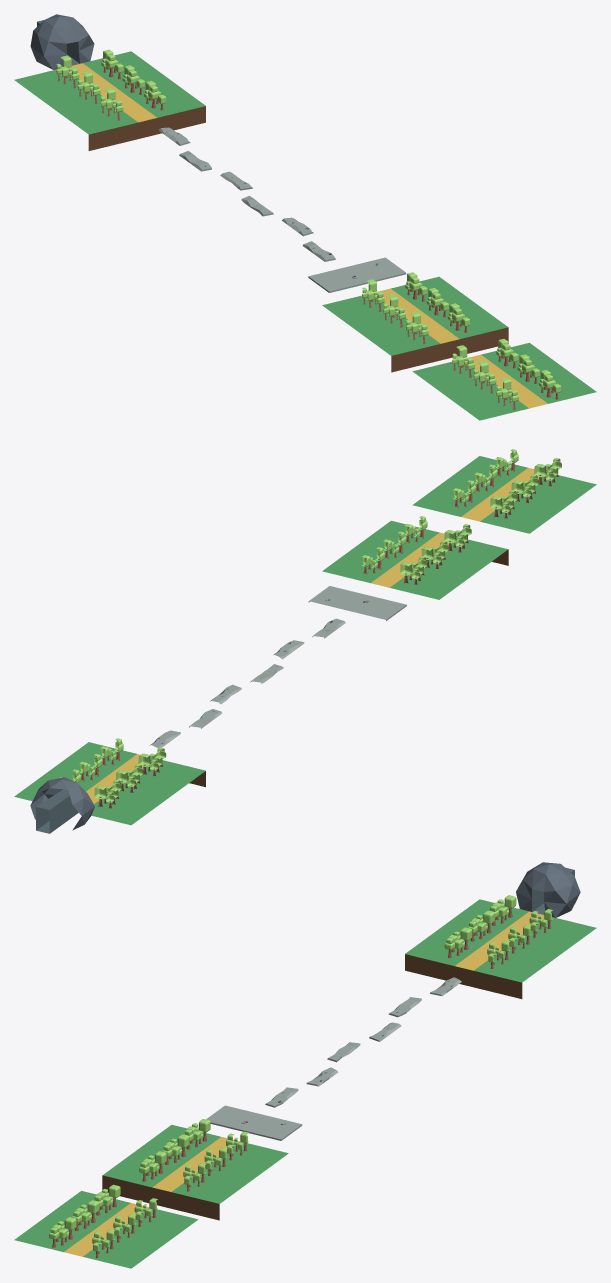
The model's file is road1.fbx.
The picture shows the model from 3 angles, top to bottom: view 1: azimuth 30°, elevation 25°; view 2: azimuth 150°, elevation 25°; view 3: azimuth 330°, elevation 25°; orthographic projection.
Parts seen in each view (by area): view 1: Plane.003, Plane.004, Plane.005, Вход в пещеру.002, Начало платформы.001, Деревья 1.001, Деревья 2.002, Деревья 2.003, Деревья3.001, Деревья2.001, Деревья1.001, Платформа 1.001 (+1 smaller); view 2: Plane.004, Plane.005, Plane.003, Вход в пещеру.002, Начало платформы.001, Деревья 2.002, Деревья 1.001, Деревья 2.003, Платформа 1.001, Деревья2.001, Деревья1.001, Деревья3.001 (+1 smaller); view 3: Plane.003, Plane.004, Plane.005, Вход в пещеру.002, Начало платформы.001, Деревья 2.002, Деревья 2.003, Деревья 1.001, Деревья3.001, Деревья2.001, Деревья1.001, Платформа 1.001 (+1 smaller).
Boxes of the visible parts, x1,y1,x2,y2 form: Plane.003: (14, 51, 205, 150); Plane.004: (322, 276, 508, 372); Plane.005: (412, 343, 596, 420); Вход в пещеру.002: (30, 14, 94, 69); Начало платформы.001: (308, 257, 406, 292); Деревья 1.001: (451, 345, 518, 410); Деревья 2.002: (55, 55, 123, 120); Деревья 2.003: (361, 279, 428, 344); Деревья3.001: (101, 49, 166, 110); Деревья2.001: (496, 339, 561, 399); Деревья1.001: (405, 272, 469, 332); Платформа 1.001: (220, 171, 335, 261); Plane.004: (322, 520, 508, 599); Plane.005: (412, 456, 596, 533); Plane.003: (14, 742, 205, 825); Вход в пещеру.002: (30, 777, 94, 833); Начало платформы.001: (308, 586, 406, 620); Деревья 2.002: (94, 747, 166, 808); Деревья 1.001: (490, 458, 561, 518); Деревья 2.003: (400, 524, 471, 584); Платформа 1.001: (210, 618, 345, 704); Деревья2.001: (453, 449, 518, 507); Деревья1.001: (362, 516, 427, 574); Деревья3.001: (59, 738, 123, 782); Plane.003: (405, 899, 596, 998); Plane.004: (102, 1125, 288, 1220); Plane.005: (14, 1191, 198, 1268); Вход в пещеру.002: (516, 862, 580, 917); Начало платформы.001: (206, 1105, 302, 1140); Деревья 2.002: (444, 895, 516, 958); Деревья 2.003: (139, 1119, 210, 1181); Деревья 1.001: (49, 1184, 120, 1247); Деревья3.001: (487, 909, 552, 968); Деревья2.001: (92, 1198, 157, 1258); Деревья1.001: (183, 1131, 248, 1191); Платформа 1.001: (265, 1022, 401, 1107).
Bounding box in the file's own units: 34218 × 15875 × 250001.
